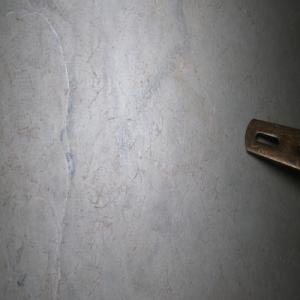MetalPart: (244, 117, 300, 174)
